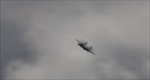maybay_muctieu: (76, 37, 97, 55)
